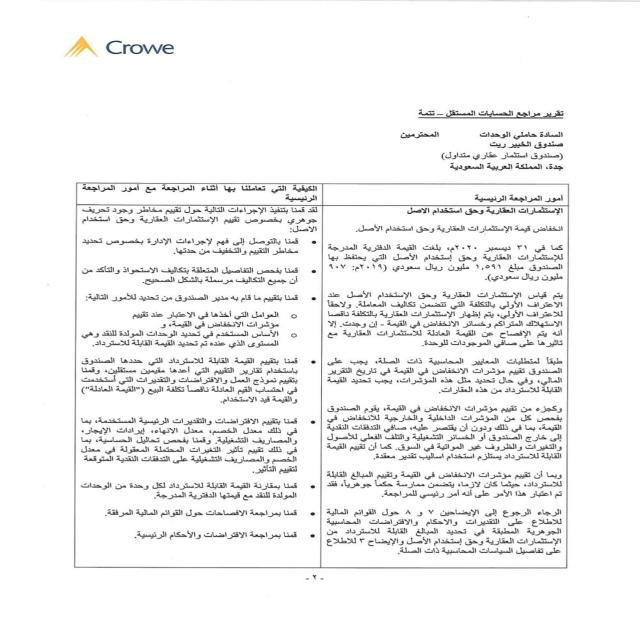auditor_report: (406, 101, 571, 125)
